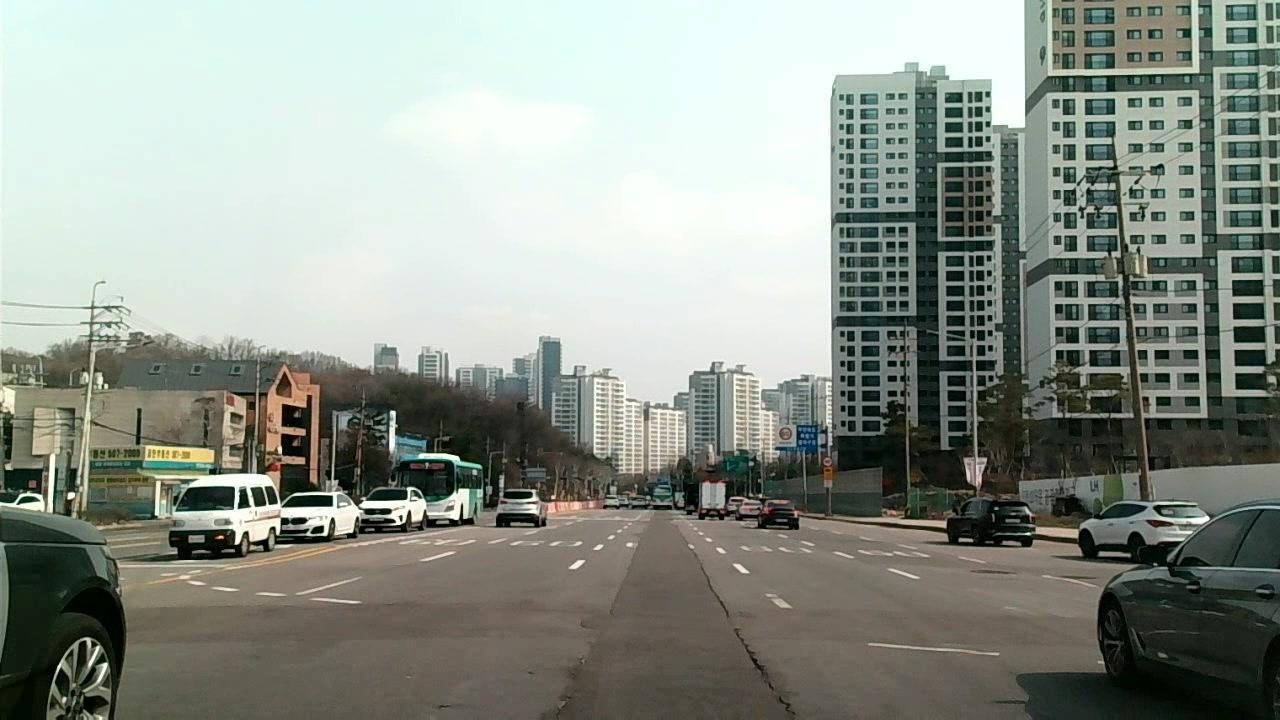vcrack: (732, 627, 798, 718), (700, 567, 732, 617)
